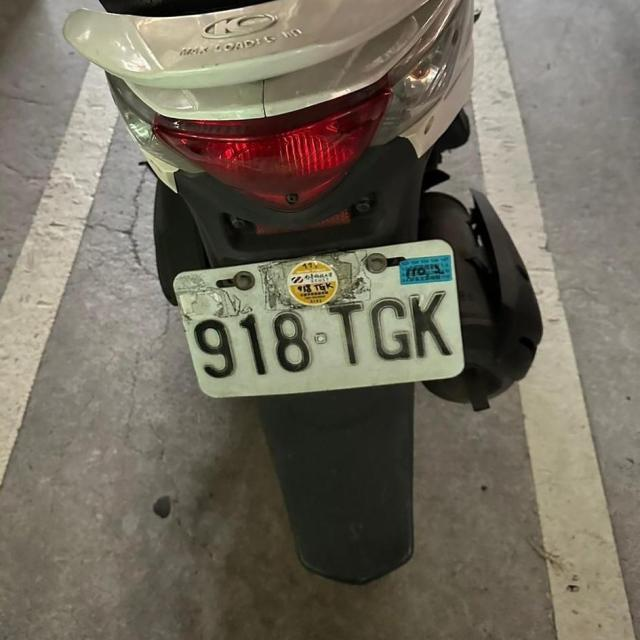W: (166, 232, 472, 412)
